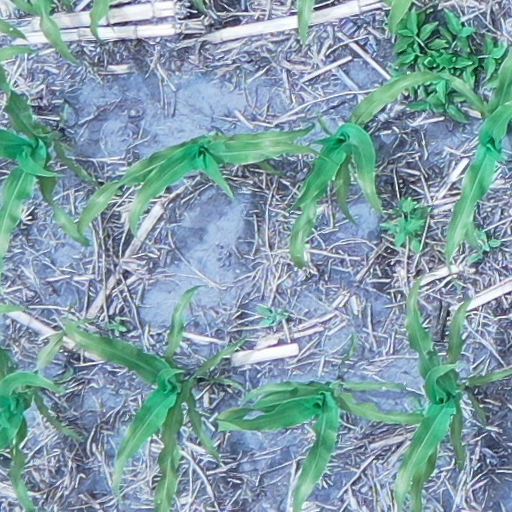planta: (58, 283, 247, 510), (283, 65, 452, 273), (71, 120, 336, 239), (211, 375, 430, 509), (1, 64, 102, 262), (1, 344, 85, 510)
